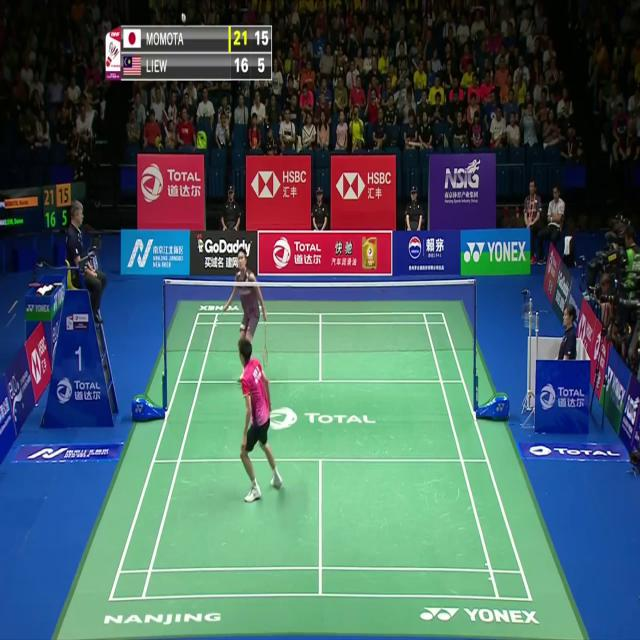Shuttlecock: (180, 10, 187, 22)
